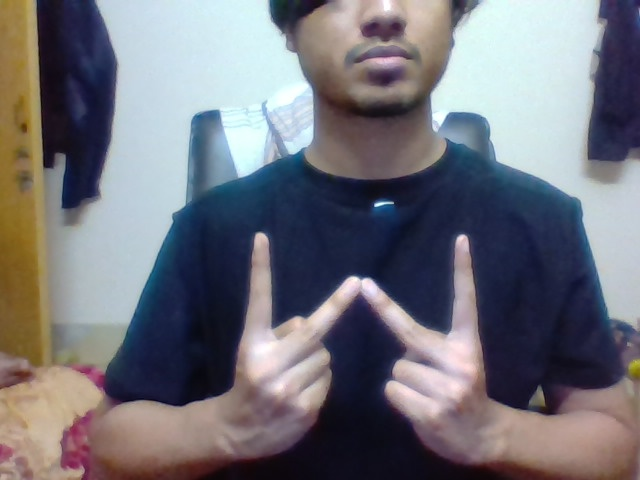W: (239, 224, 485, 350)
